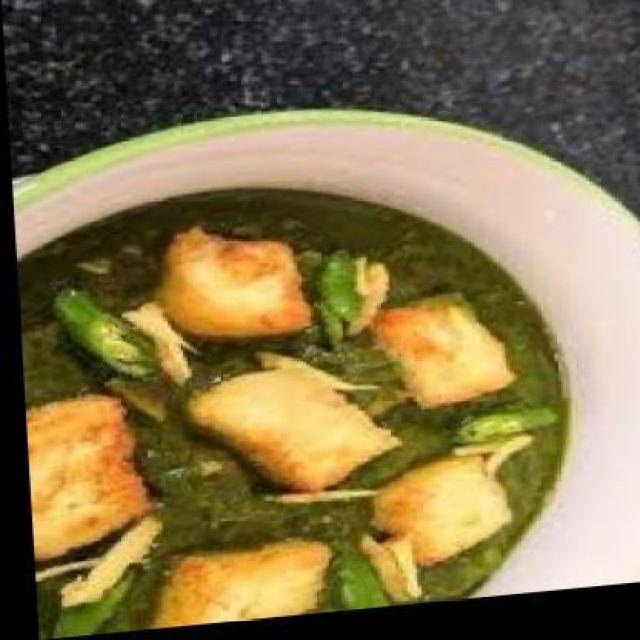palak_paneer: (10, 167, 572, 638)
